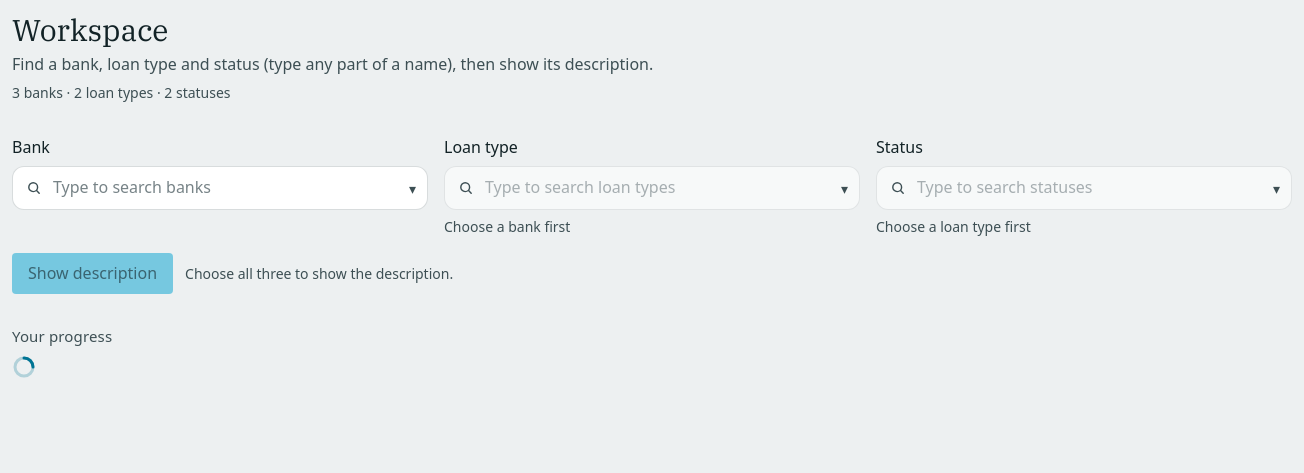
Test: WorkspacePage › says plainly when the chosen bank has no loan types attached yet
This screenshot has width=1304, height=473.
Type "brand new" into the dropdown labelled "Bank" at (220, 188), box [12, 166, 428, 210]
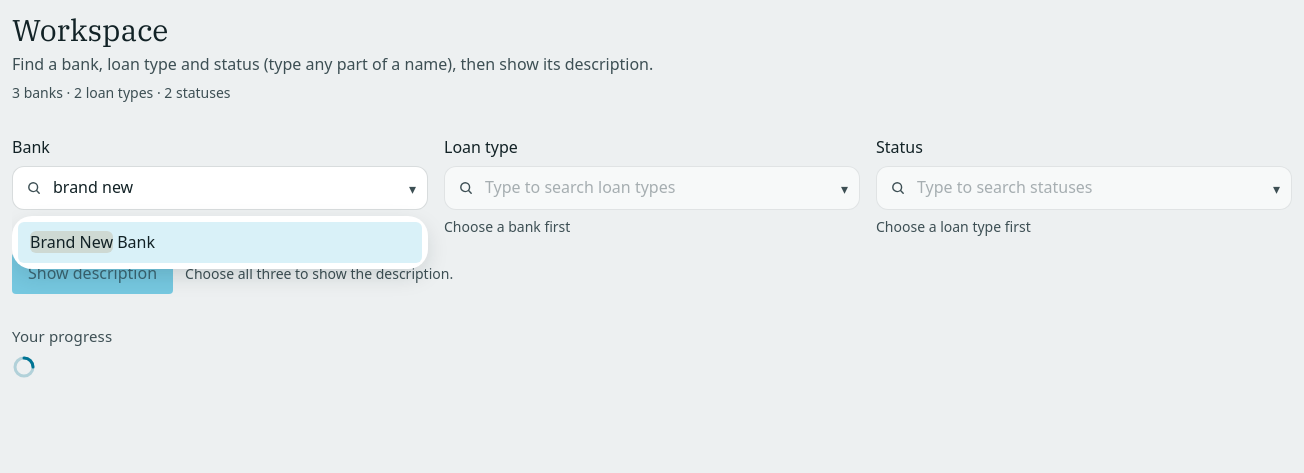
Press Enter in the dropdown labelled "Bank", box [12, 166, 428, 210]
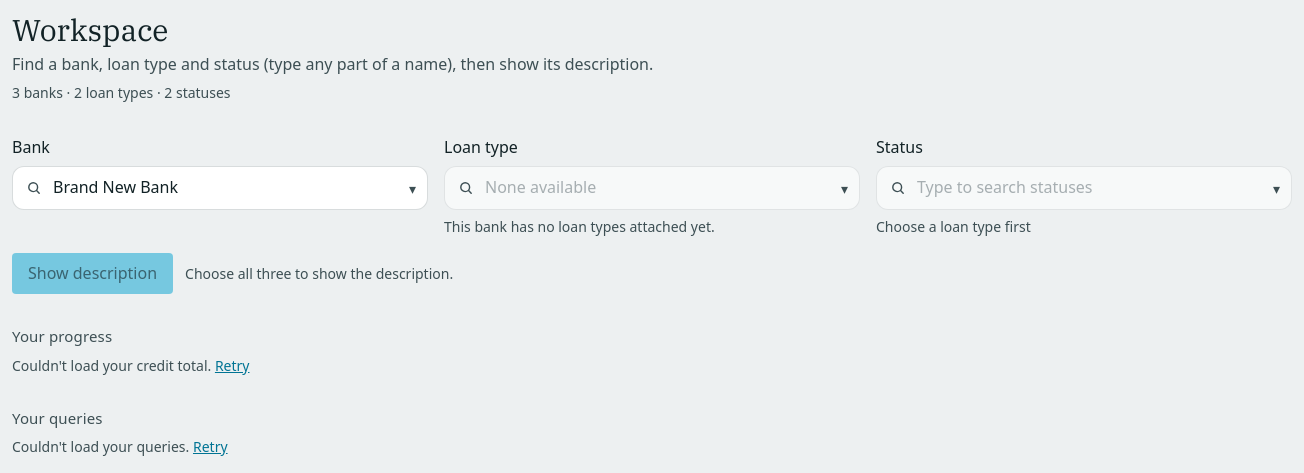
Expected: the dropdown labelled "Loan type" is disabled, [444, 166, 860, 210]
Expected: the text "This bank has no loan types attached yet." is shown, [444, 217, 715, 236]
